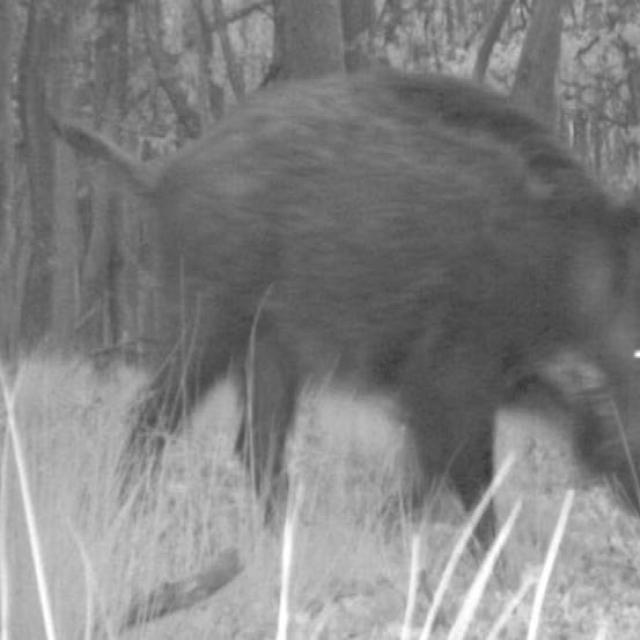pig: (39, 0, 640, 554)
